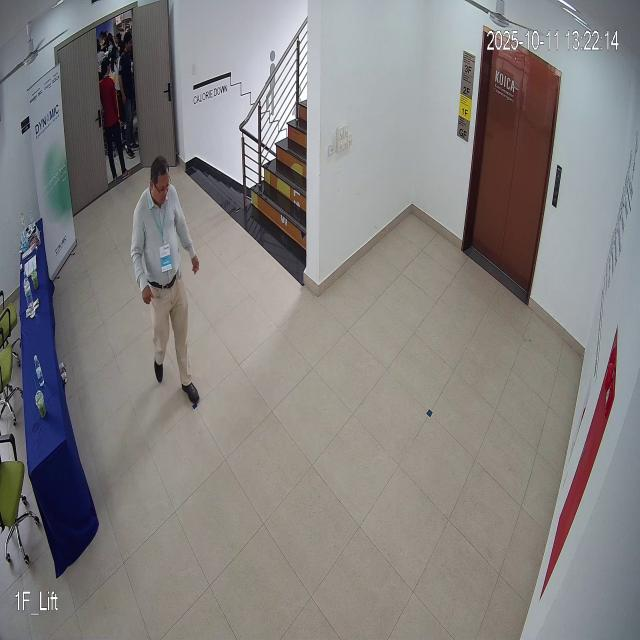face: (146, 154, 173, 208)
